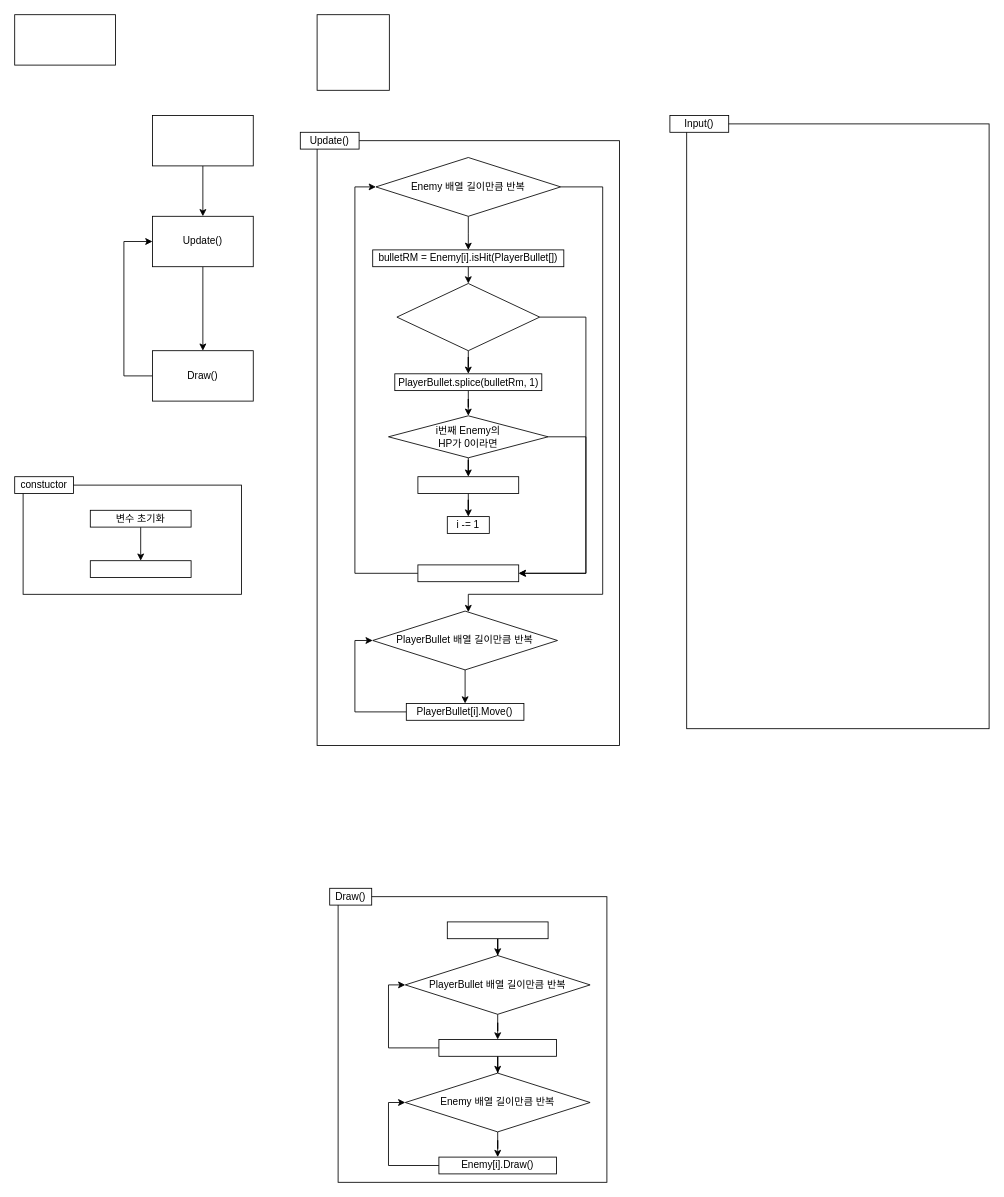
The diagram is 1004 pixels wide and 1197 high, and some of its shapes have lost their labels. The shapes that lost their labels are listed below. From the top down, each one's centre as x and y in pixels, then its label:
At point (65, 39): "GameManager".
At point (352, 52): "-Value List- Player PlayerBullet[] Enemy[] int bulletRM Canvas".
At point (202, 140): "constructor".
At point (468, 317): "billetRm이 -1보다 크다면".
At point (468, 485): "Enemy.splice(i,1)".
At point (140, 569): "이벤트리스너 설정".
At point (468, 573): "Enemy[i].Move()".
At point (497, 930): "Player.Draw()".
At point (497, 1047): "PlayerBullet[i].Draw()".
